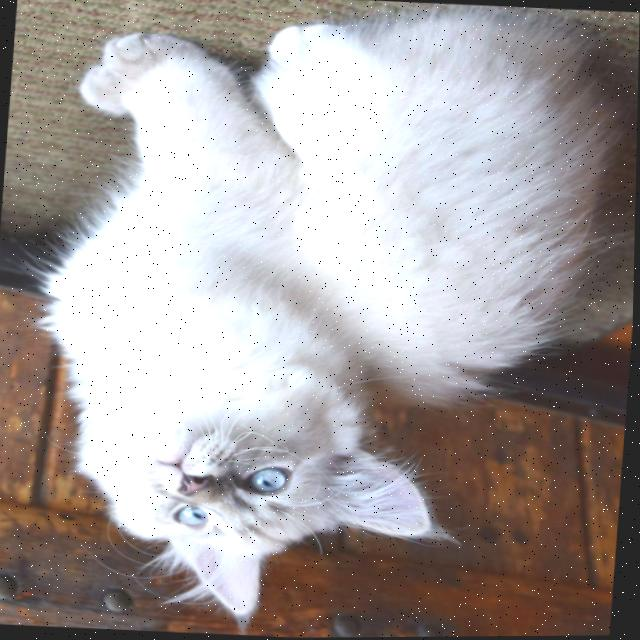Neva Masquerade: (7, 0, 640, 640)
